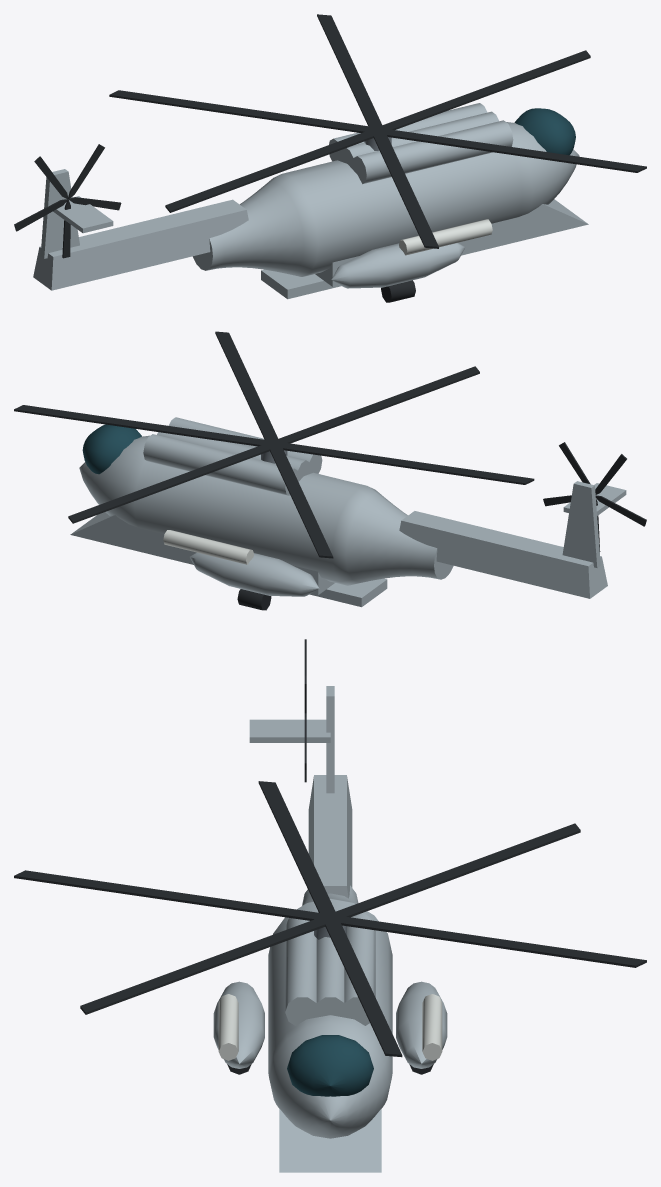
The model's file is pla_helo_z18f.glb.
The picture shows the model from 3 angles, top to bottom: view 1: azimuth 30°, elevation 25°; view 2: azimuth 150°, elevation 25°; view 3: azimuth 270°, elevation 25°; orthographic projection. The views are drawn at different scales.
Parts seen in each view (by area): view 1: naval_paint, rubber, glazing, missile_body; view 2: naval_paint, rubber, glazing, missile_body; view 3: naval_paint, rubber, glazing, missile_body.
Part boxes in pixels (bbox=[...]): naval_paint: bbox=[33, 103, 588, 299]; rubber: bbox=[14, 14, 646, 302]; glazing: bbox=[514, 108, 575, 155]; missile_body: bbox=[399, 219, 492, 255]; naval_paint: bbox=[70, 417, 626, 607]; rubber: bbox=[14, 331, 646, 610]; glazing: bbox=[82, 424, 141, 474]; missile_body: bbox=[163, 530, 253, 564]; naval_paint: bbox=[213, 686, 447, 1172]; rubber: bbox=[14, 639, 646, 1074]; glazing: bbox=[287, 1035, 373, 1096]; missile_body: bbox=[218, 994, 442, 1060].
Bounding box in the file's own units: 10 × 3.17 × 7.6.
